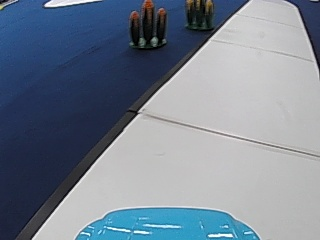corn: (127, 2, 169, 49), (184, 0, 214, 31)
